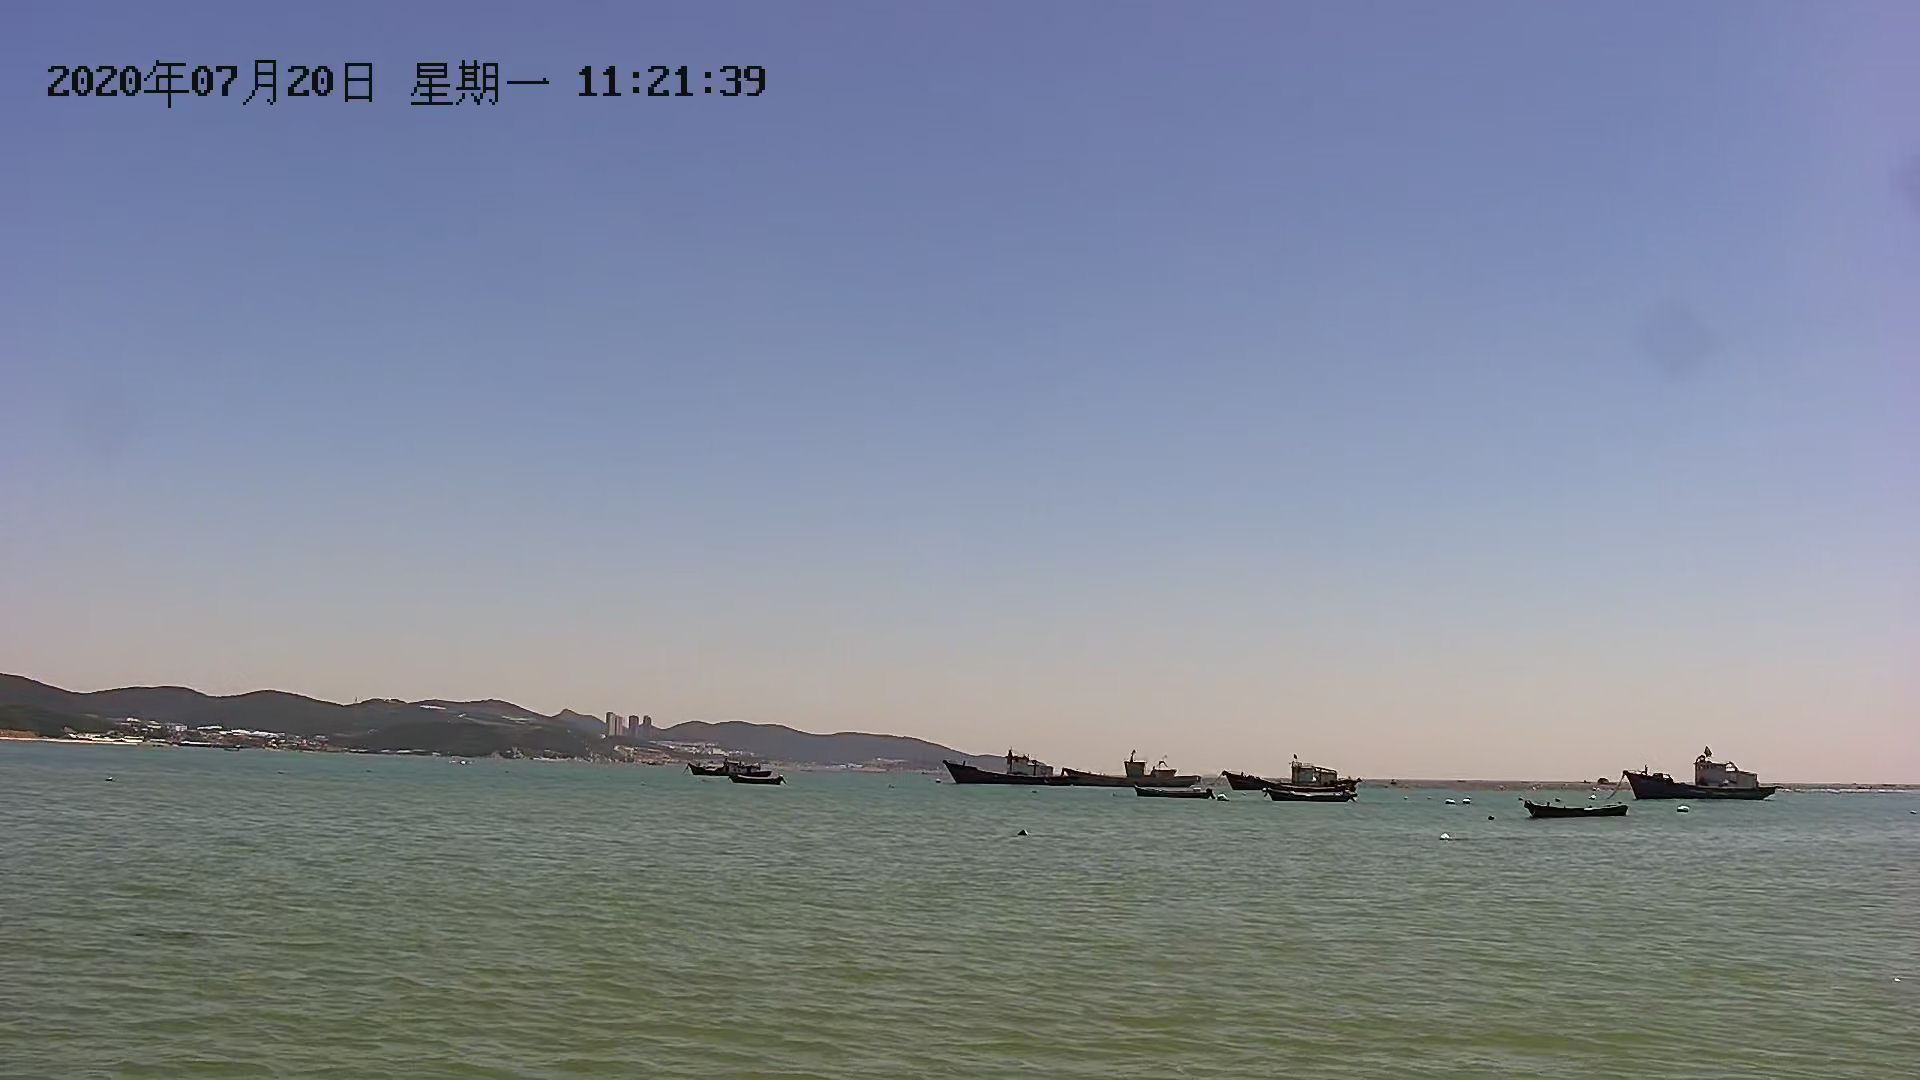boat: (936, 752, 1189, 786), (1622, 756, 1785, 798), (1225, 764, 1352, 806), (1518, 794, 1638, 822), (682, 757, 769, 775), (728, 771, 795, 782)
